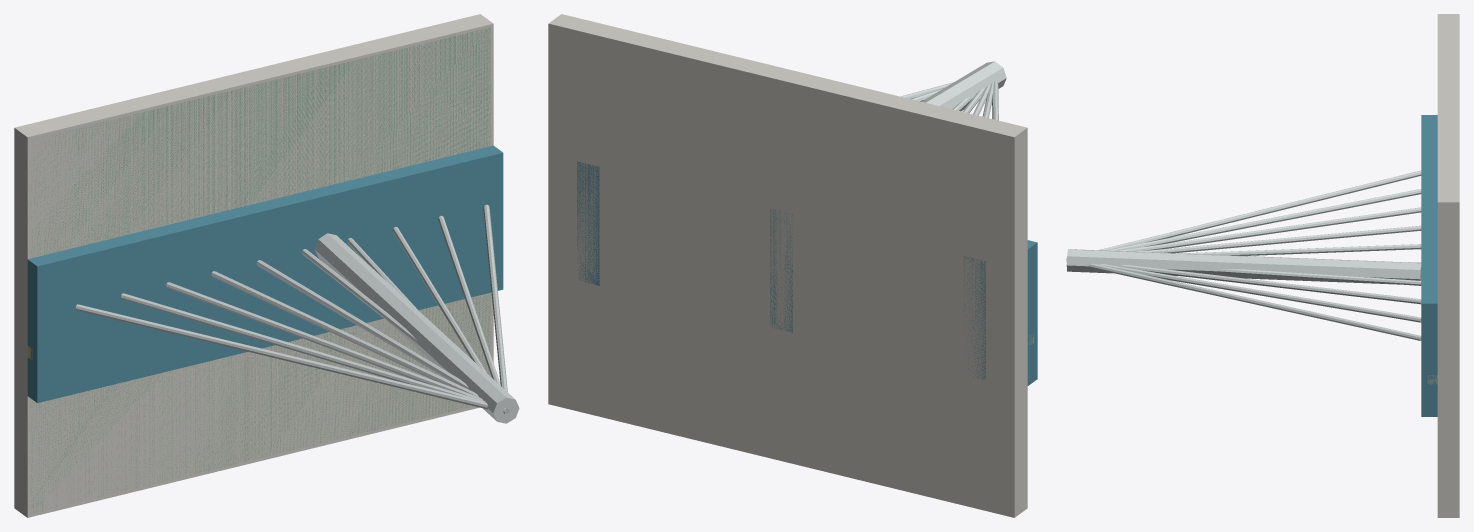
Rendered from tamkang_bridge.glb.
3 views of the same model, side by side, from view 1: azimuth 30°, elevation 25°; view 2: azimuth 150°, elevation 25°; view 3: azimuth 270°, elevation 25° (orthographic). The views are drawn at different scales.
Visible parts, largest first — view 1: g0, g2, g1, g4, g5, g6, g7, g8, g9, g14, g13, g12 (+1 smaller); view 2: g0, g17, g4, g2, g16, g15; view 3: g0, g4, g2, g14, g5, g13, g6, g7, g12, g8, g9, g11.
Boxes of the visible parts, x1,y1,x2,y2 form: g0: [14, 14, 493, 517]; g2: [27, 145, 503, 402]; g1: [30, 27, 490, 513]; g4: [314, 233, 519, 423]; g5: [75, 304, 506, 413]; g6: [120, 293, 485, 402]; g7: [166, 282, 482, 400]; g8: [211, 271, 478, 396]; g9: [256, 260, 468, 389]; g14: [483, 204, 509, 413]; g13: [438, 215, 500, 385]; g12: [392, 226, 486, 372]; g0: [548, 14, 1027, 517]; g17: [577, 162, 599, 285]; g4: [921, 61, 1006, 111]; g2: [1027, 240, 1037, 385]; g16: [770, 209, 792, 332]; g15: [963, 256, 985, 379]; g0: [1437, 14, 1459, 517]; g4: [1066, 249, 1421, 284]; g2: [1421, 115, 1437, 416]; g14: [1066, 260, 1421, 340]; g5: [1066, 170, 1421, 259]; g13: [1098, 264, 1421, 322]; g6: [1105, 189, 1421, 250]; g7: [1117, 207, 1421, 251]; g12: [1117, 265, 1421, 304]; g8: [1137, 225, 1421, 253]; g9: [1179, 244, 1421, 255]; g11: [1218, 269, 1421, 285].
Size of the model in its own units: 82 by 64 by 72.25.
